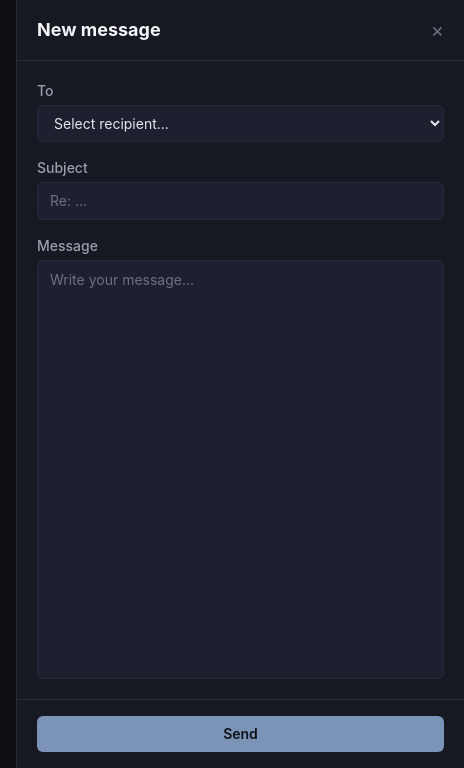
Test case: MessageComposer › shows validation error when fields are empty
This screenshot has width=464, height=768.
Click the button with test id "composer-send": [240, 734] box [37,716,444,752]
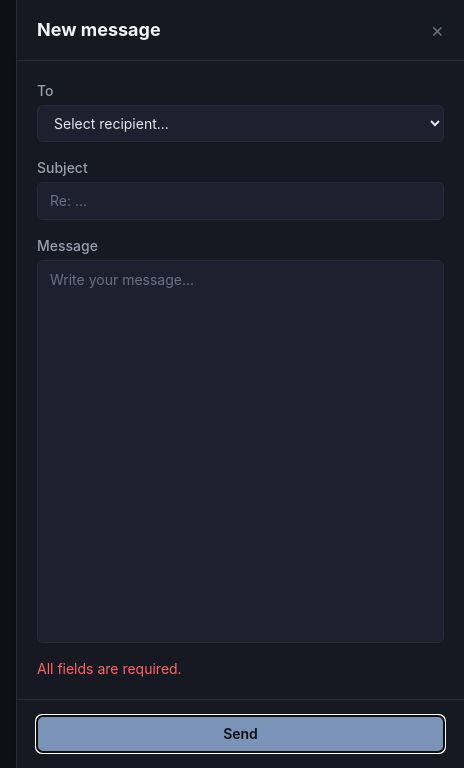
Now the text with test id "composer-error" reads "All fields are required.", box [37,660,182,677]
